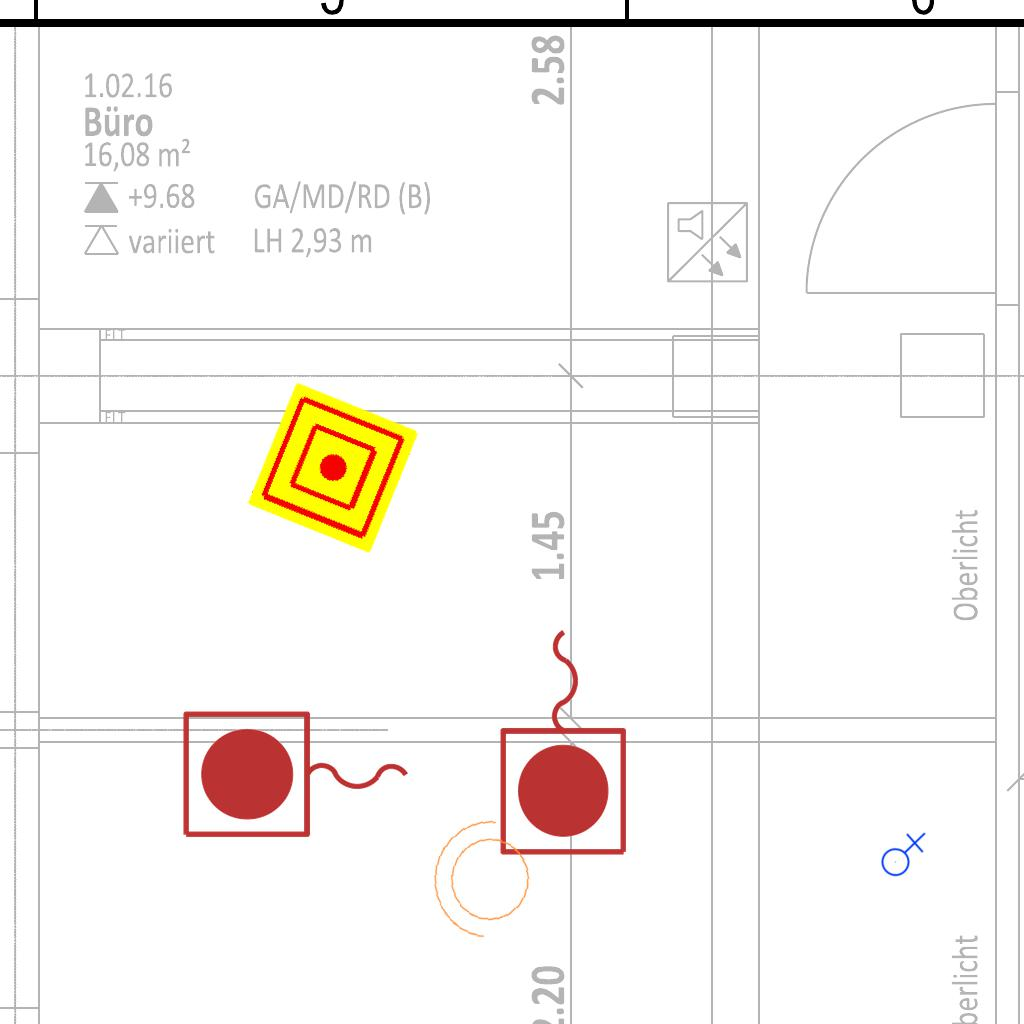Elektroanschluss_allgemein_230V_Geraeteanschlussdose_230V: (877, 830, 926, 877)
NAM-Nichtautomatischer_Melder: (247, 382, 419, 554)
Scheinwerfer_fuer_Alarmbeleuchtung: (422, 810, 548, 954)
Zugtaster: (493, 619, 637, 863), (175, 704, 419, 848)
